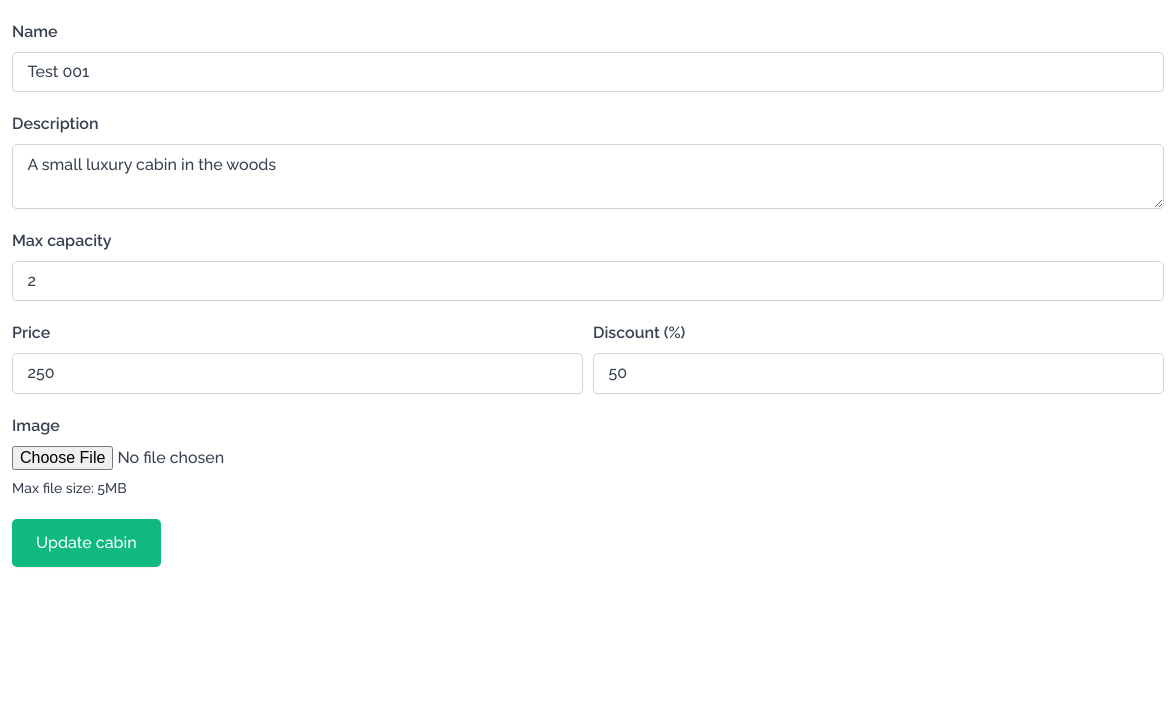
Test: UpdateCabinForm › should show error messages if required input values are not provided
Clear the field labelled "Name" at (588, 72), box [12, 52, 1164, 92]
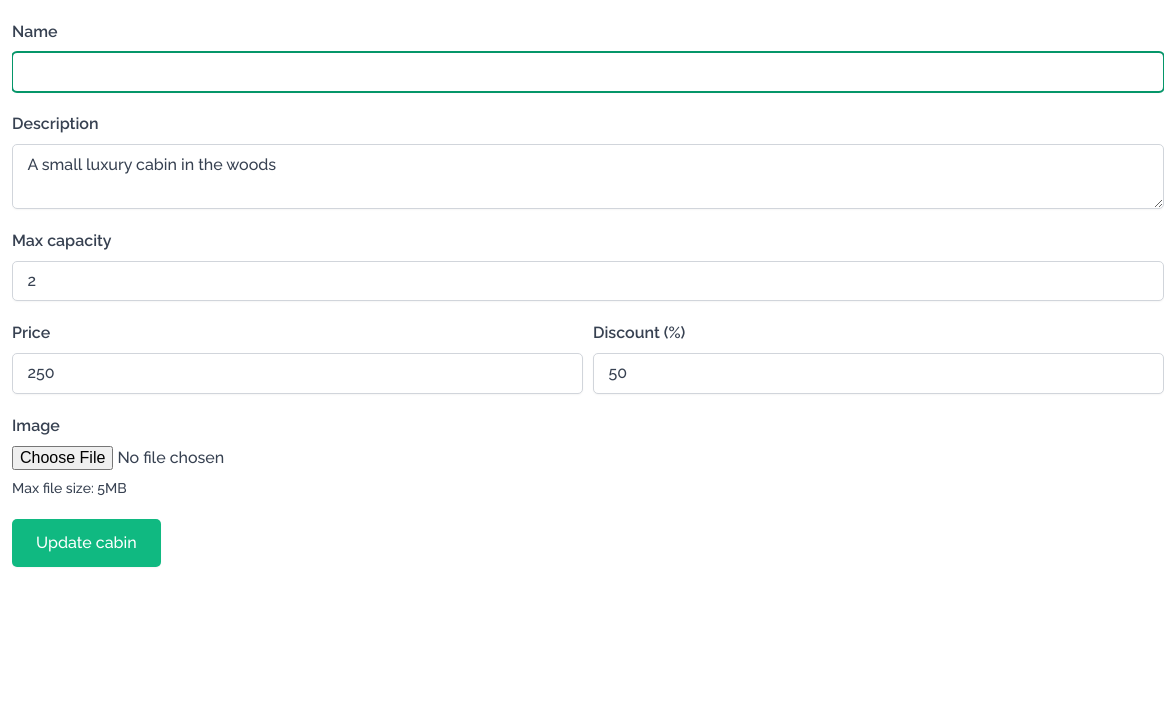
Clear the text box labelled "Description" at (588, 177), box [12, 144, 1164, 209]
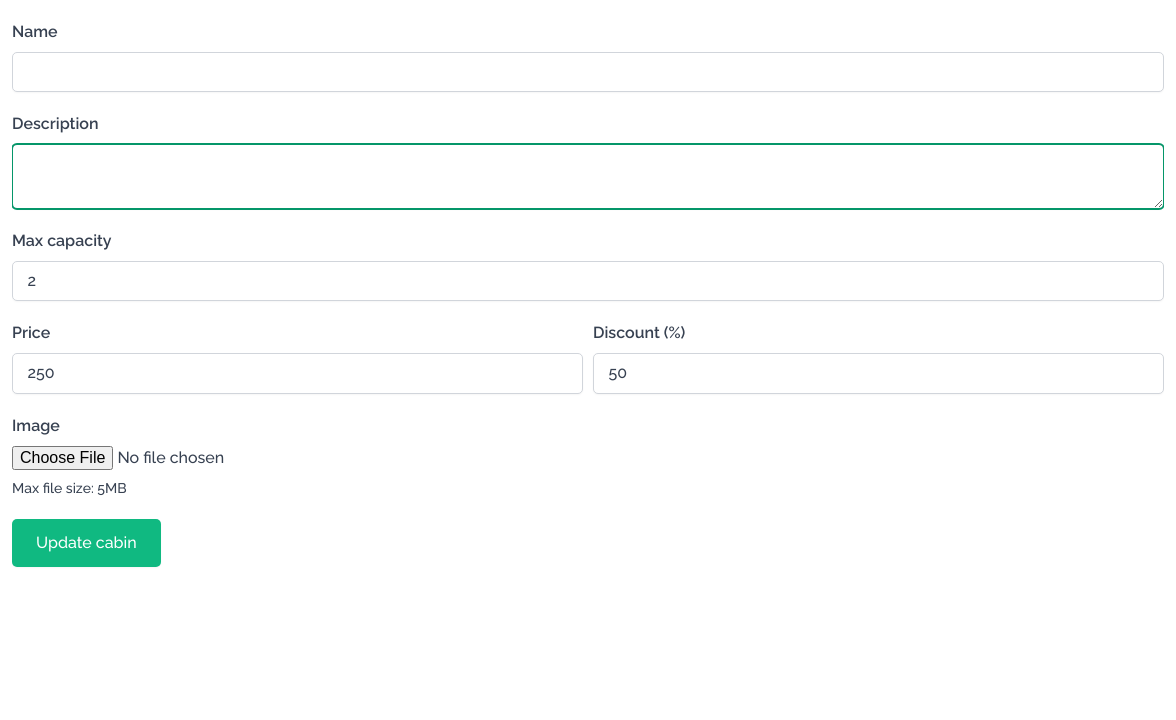
Clear the number field labelled "Price" at (298, 373), box [12, 353, 583, 394]
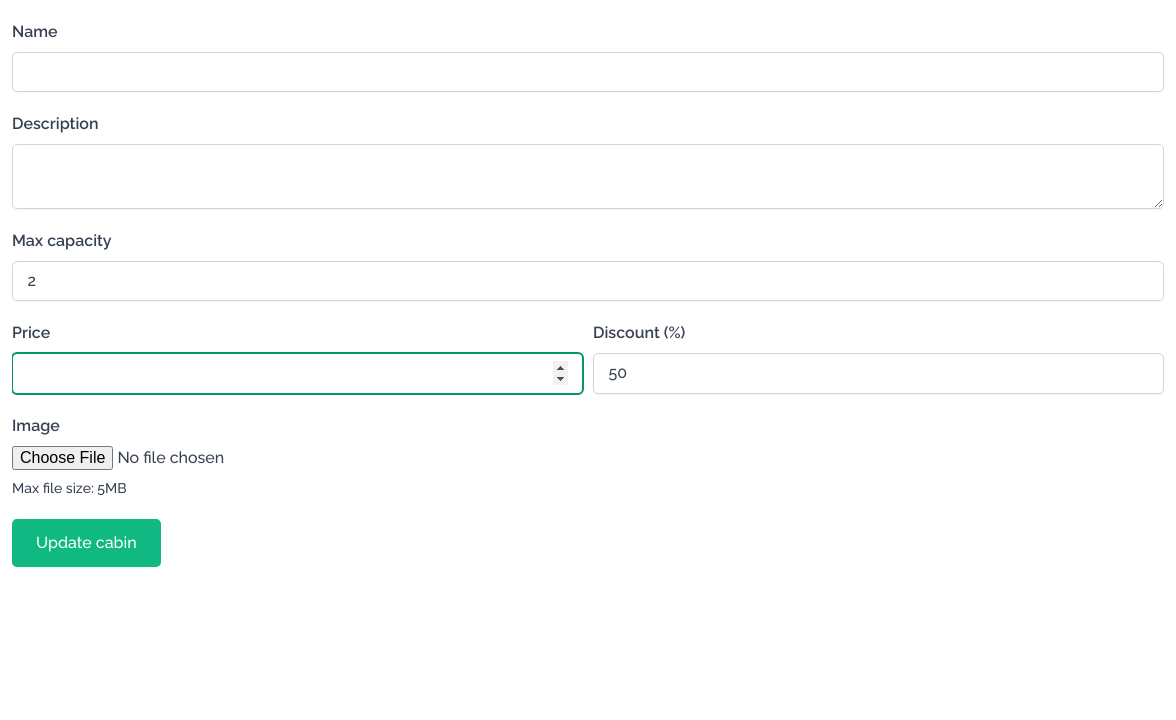
Click the button "Update cabin" at (86, 542), box [12, 518, 161, 566]
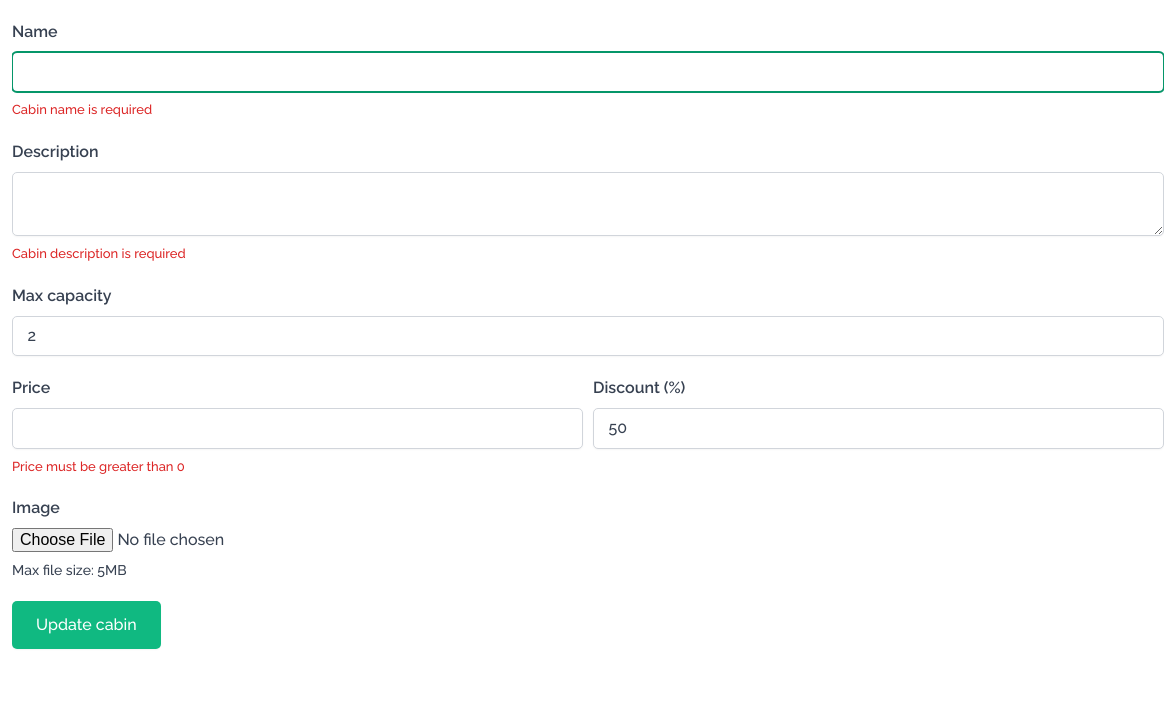
Expected: the message "Cabin name is required" is shown, [12, 102, 152, 117]
Expected: the message "Cabin description is required" is shown, [12, 246, 186, 261]
Expected: the text "Price must be greater than 0" is shown, [12, 458, 185, 474]
